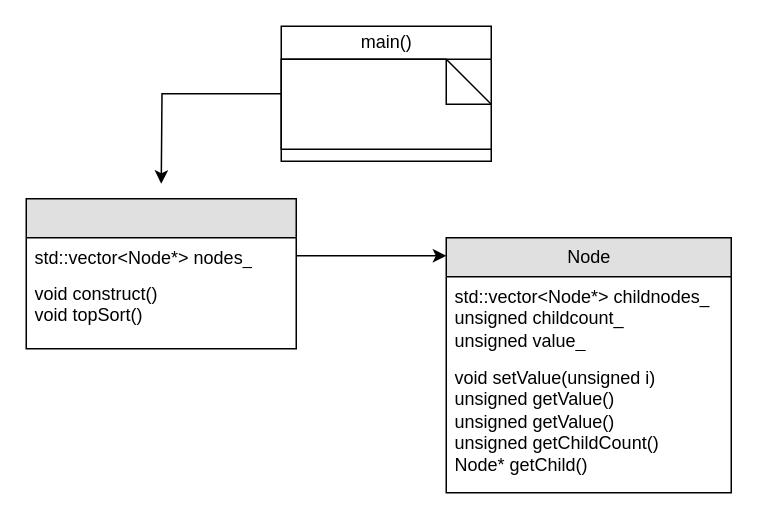
Some shapes in this 758 by 519 pixel diagram are drawn without their labels. Each missing label, with the box of its shape:
DirGraph: (25, 197, 296, 349)
DirGraph g; g.construct(); g.topSort();: (280, 58, 491, 149)
